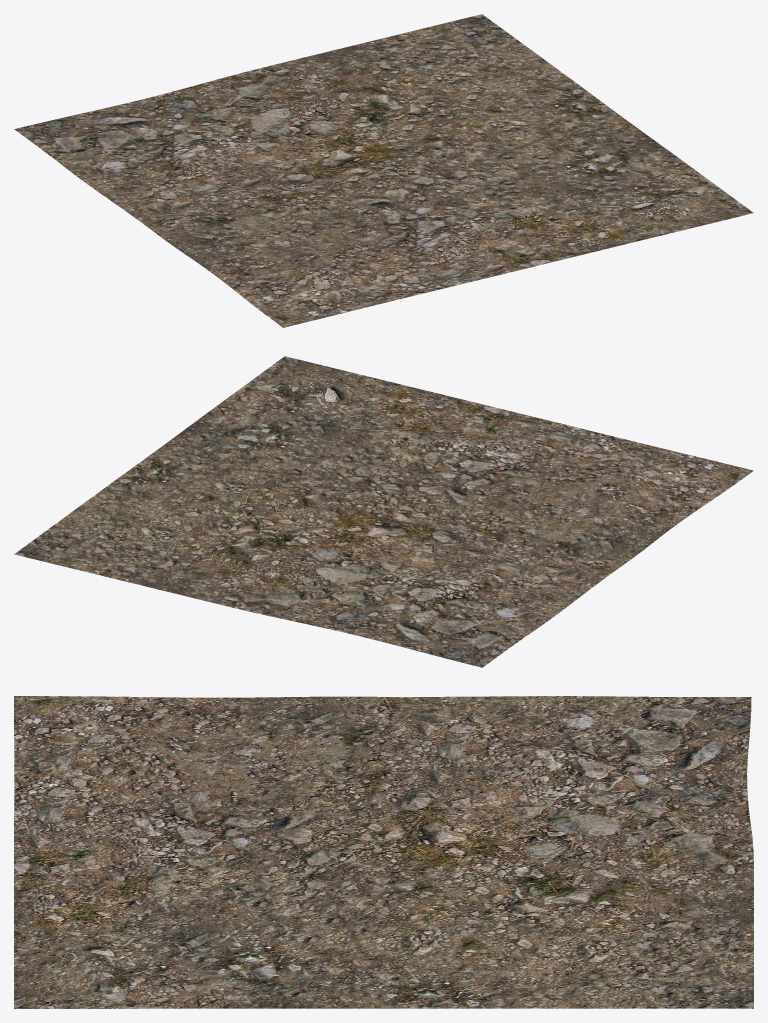
Rendered from GravelPatch.fbx.
The picture shows the model from 3 angles, top to bottom: view 1: azimuth 30°, elevation 25°; view 2: azimuth 150°, elevation 25°; view 3: azimuth 270°, elevation 25°; orthographic projection. The views are drawn at different scales.
Parts seen in each view (by area): view 1: pPlane1; view 2: pPlane1; view 3: pPlane1.
Part boxes in pixels (<box>): pPlane1: <box>14,14,753,327</box>; pPlane1: <box>14,356,753,667</box>; pPlane1: <box>14,696,753,1008</box>.
Bounding box in the file's own units: 0.3421 × 0.00524 × 0.3421.
